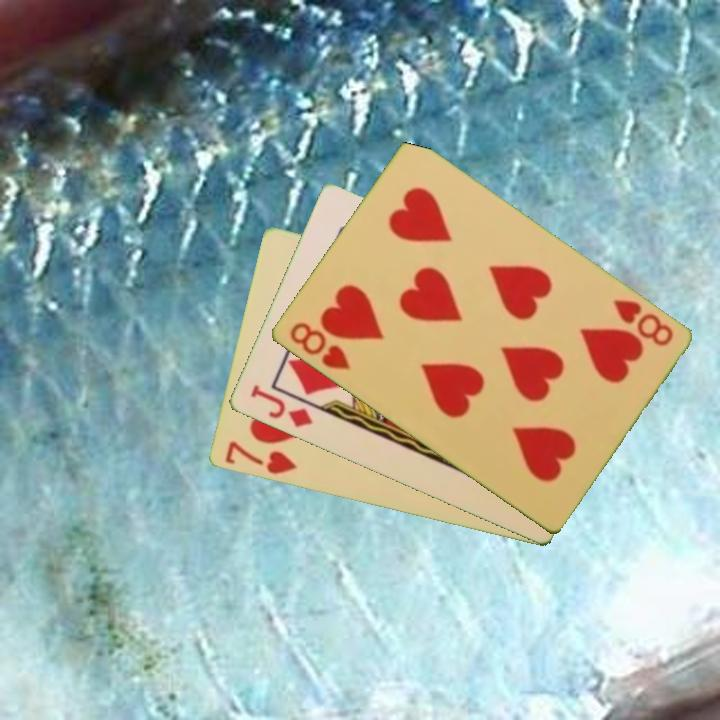7h: (221, 438, 299, 478)
8h: (285, 318, 353, 373), (608, 295, 676, 350)
Jd: (246, 381, 315, 431)
